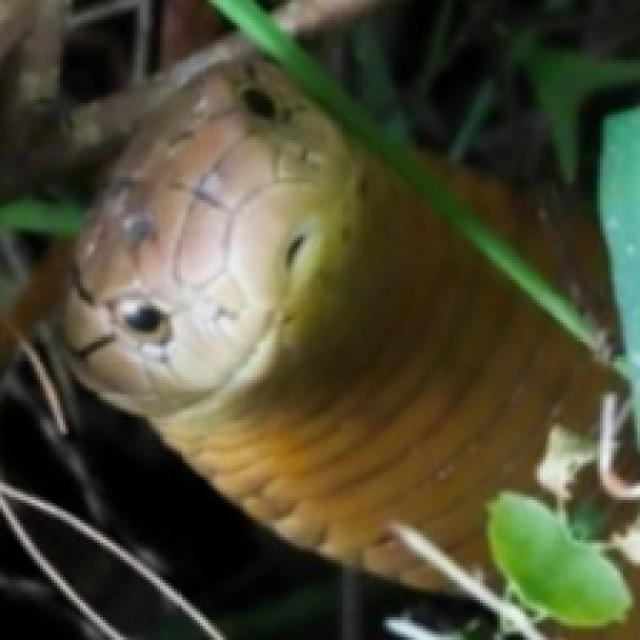king cobra: (0, 43, 637, 637), (63, 57, 637, 626), (434, 166, 563, 277)
